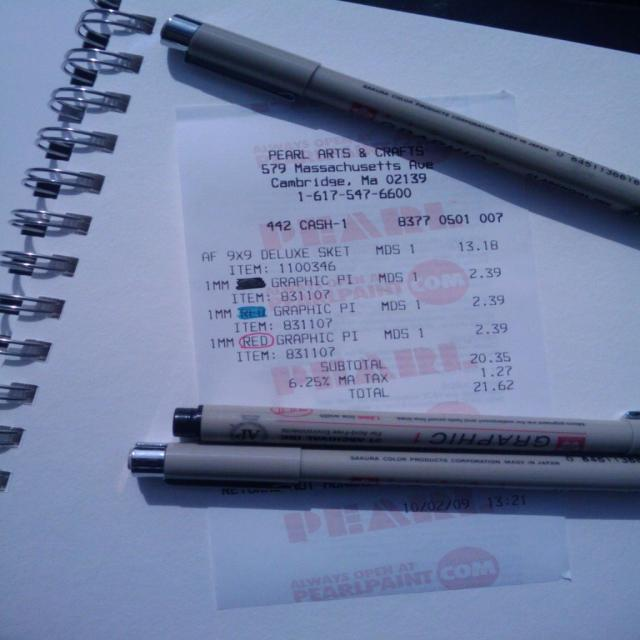pen: (165, 9, 639, 220), (128, 443, 640, 489), (163, 406, 638, 444)
